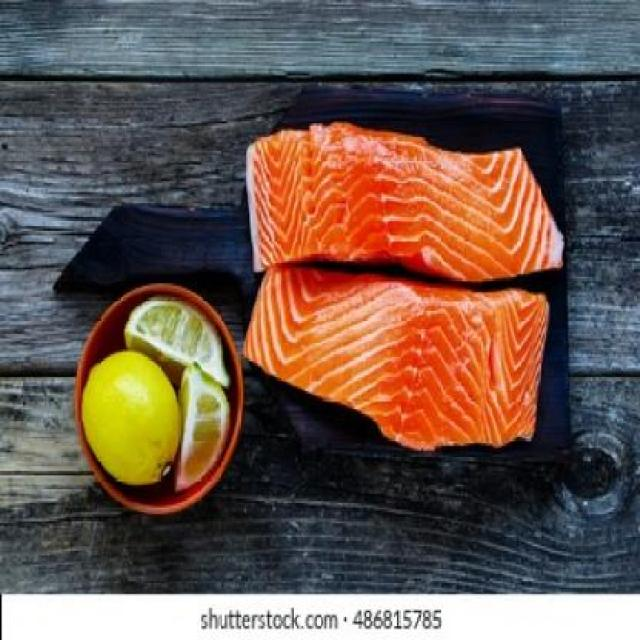salmon: (195, 118, 616, 294), (225, 249, 559, 457)
